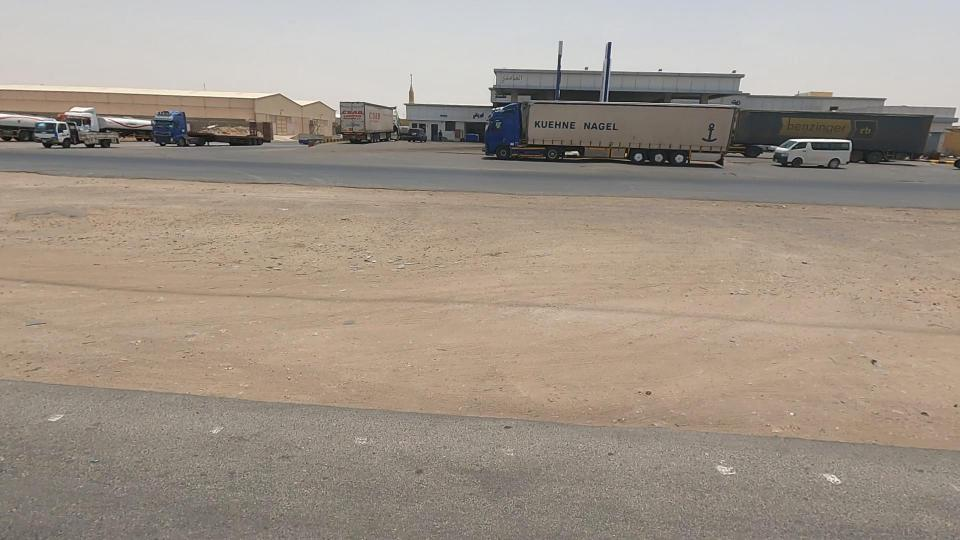CONSTRUCTION_ROAD: (239, 112, 960, 476), (0, 103, 552, 434)
